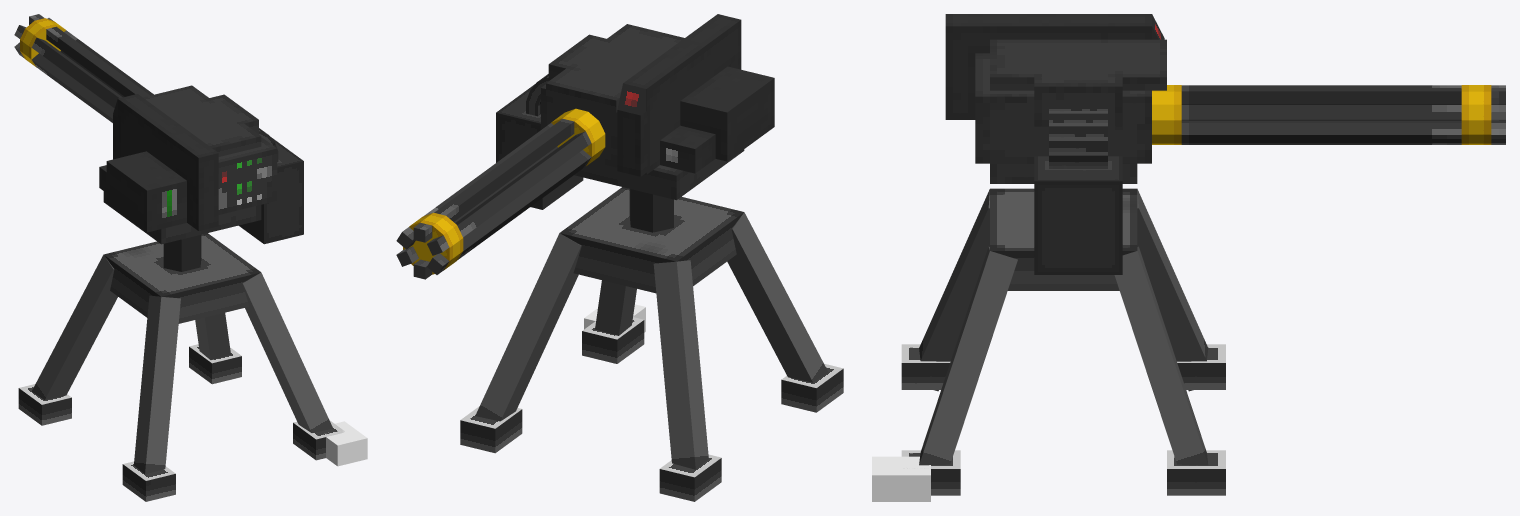
The model's file is Ally_SENTRY_GUN.glb.
3 renders of one model, left to right at view 1: azimuth 30°, elevation 25°; view 2: azimuth 150°, elevation 25°; view 3: azimuth 270°, elevation 25°, orthographic. The views are drawn at different scales.
Parts seen in each view (by area): view 1: cube_0, cube_34, cube_2, cube_38, cube_7, cube_1, cube_31, cube_30, cube_11, cube_23, cube_29, cube_24 (+10 smaller); view 2: cube_0, cube_1, cube_34, cube_6, cube_2, cube_38, cube_31, cube_23, cube_24, cube_29, cube_20, cube_11 (+15 smaller); view 3: cube_11, cube_30, cube_31, cube_34, cube_7, cube_6, cube_19, cube_0, cube_23, cube_21, cube_1, cube_2 (+13 smaller).
Part boxes in pixels (x1=…): cube_0: x1=103, y1=233, x2=260, y2=323; cube_34: x1=117, y1=94, x2=218, y2=230; cube_2: x1=134, y1=295, x2=180, y2=474; cube_38: x1=106, y1=151, x2=186, y2=232; cube_7: x1=242, y1=272, x2=332, y2=432; cube_1: x1=31, y1=255, x2=117, y2=399; cube_31: x1=143, y1=85, x2=261, y2=156; cube_30: x1=218, y1=137, x2=277, y2=214; cube_11: x1=239, y1=137, x2=303, y2=244; cube_23: x1=29, y1=14, x2=149, y2=97; cube_29: x1=103, y1=191, x2=261, y2=244; cube_24: x1=14, y1=25, x2=122, y2=107; cube_0: x1=560, y1=187, x2=743, y2=293; cube_1: x1=653, y1=260, x2=708, y2=469; cube_34: x1=623, y1=14, x2=741, y2=174; cube_6: x1=475, y1=233, x2=581, y2=421; cube_2: x1=727, y1=212, x2=828, y2=382; cube_38: x1=680, y1=66, x2=774, y2=161; cube_31: x1=546, y1=24, x2=684, y2=112; cube_23: x1=413, y1=118, x2=574, y2=242; cube_24: x1=427, y1=131, x2=591, y2=255; cube_29: x1=574, y1=149, x2=744, y2=200; cube_20: x1=427, y1=150, x2=591, y2=274; cube_11: x1=496, y1=84, x2=583, y2=209; cube_11: x1=1034, y1=156, x2=1122, y2=274; cube_30: x1=975, y1=53, x2=1151, y2=163; cube_31: x1=990, y1=39, x2=1166, y2=90; cube_34: x1=945, y1=14, x2=1151, y2=119; cube_7: x1=919, y1=247, x2=1017, y2=465; cube_6: x1=1114, y1=246, x2=1208, y2=465; cube_19: x1=1181, y1=123, x2=1505, y2=143; cube_0: x1=990, y1=188, x2=1137, y2=290; cube_23: x1=1181, y1=85, x2=1505, y2=104; cube_21: x1=1181, y1=105, x2=1505, y2=120; cube_1: x1=1137, y1=189, x2=1208, y2=391; cube_2: x1=919, y1=189, x2=989, y2=391.
Bounding box in the file's own units: 1.31 × 1.91 × 2.69.
5 materials, 4 textured.
